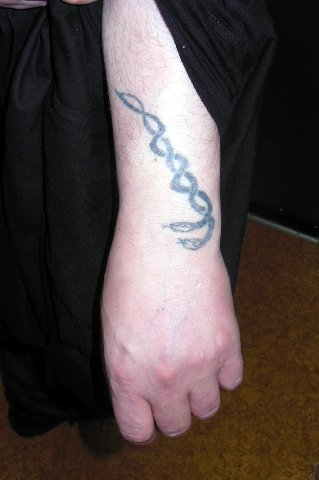tatu7_zmeya: (113, 86, 218, 254)
